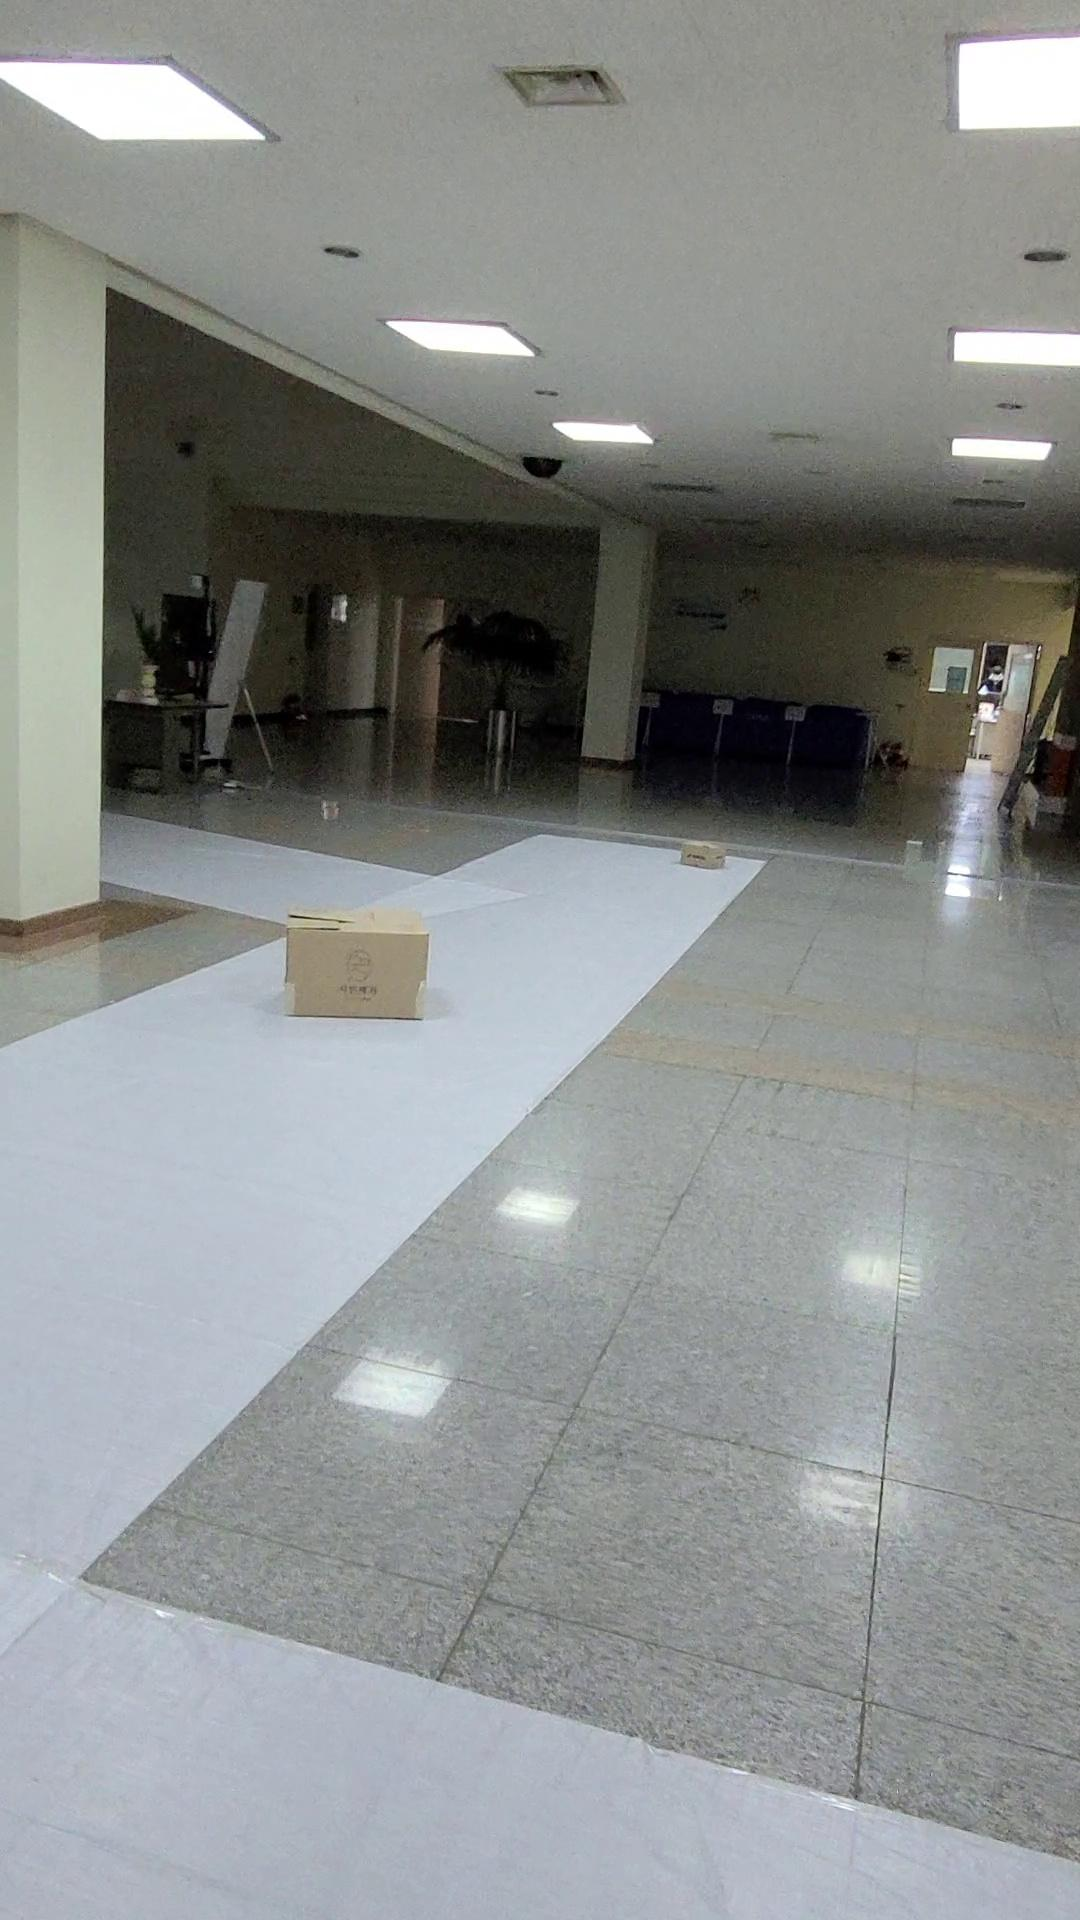Box: (256, 887, 435, 1033), (647, 837, 742, 887)
